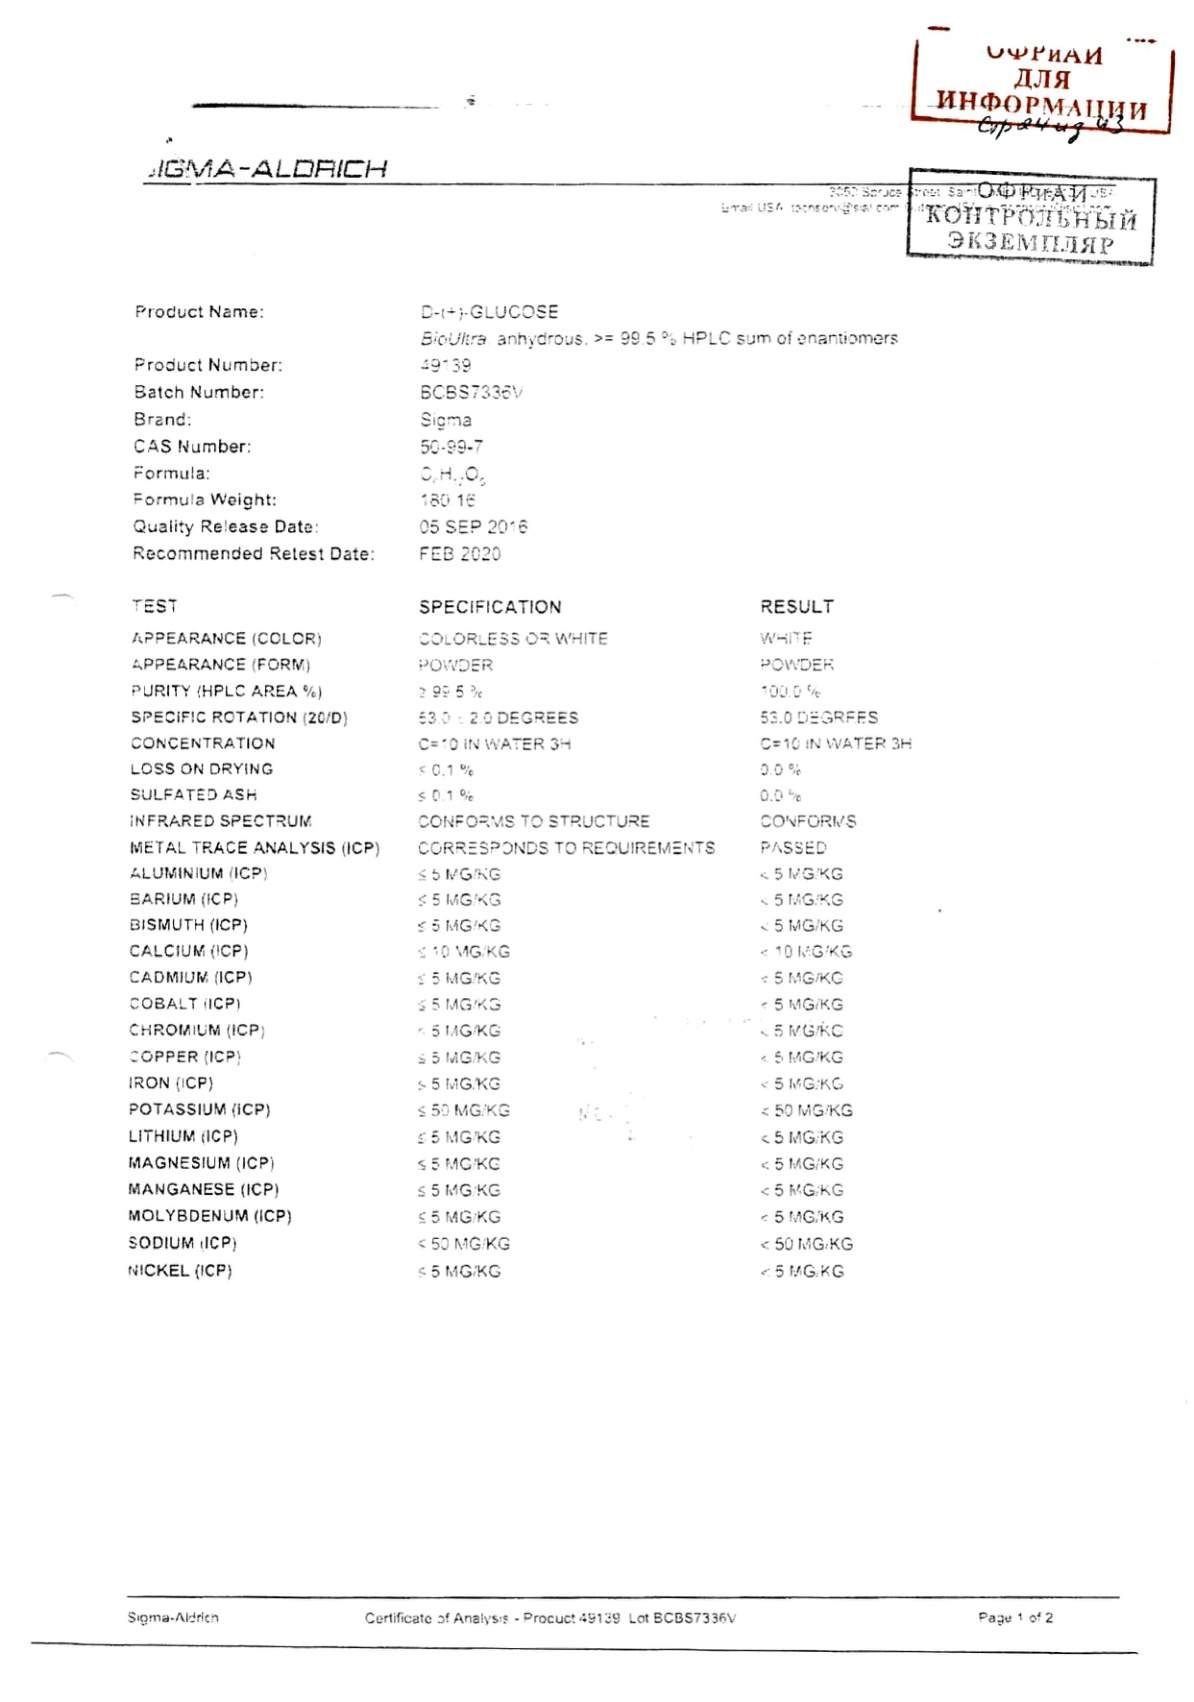nolines: (122, 591, 917, 1283), (125, 300, 902, 566)
